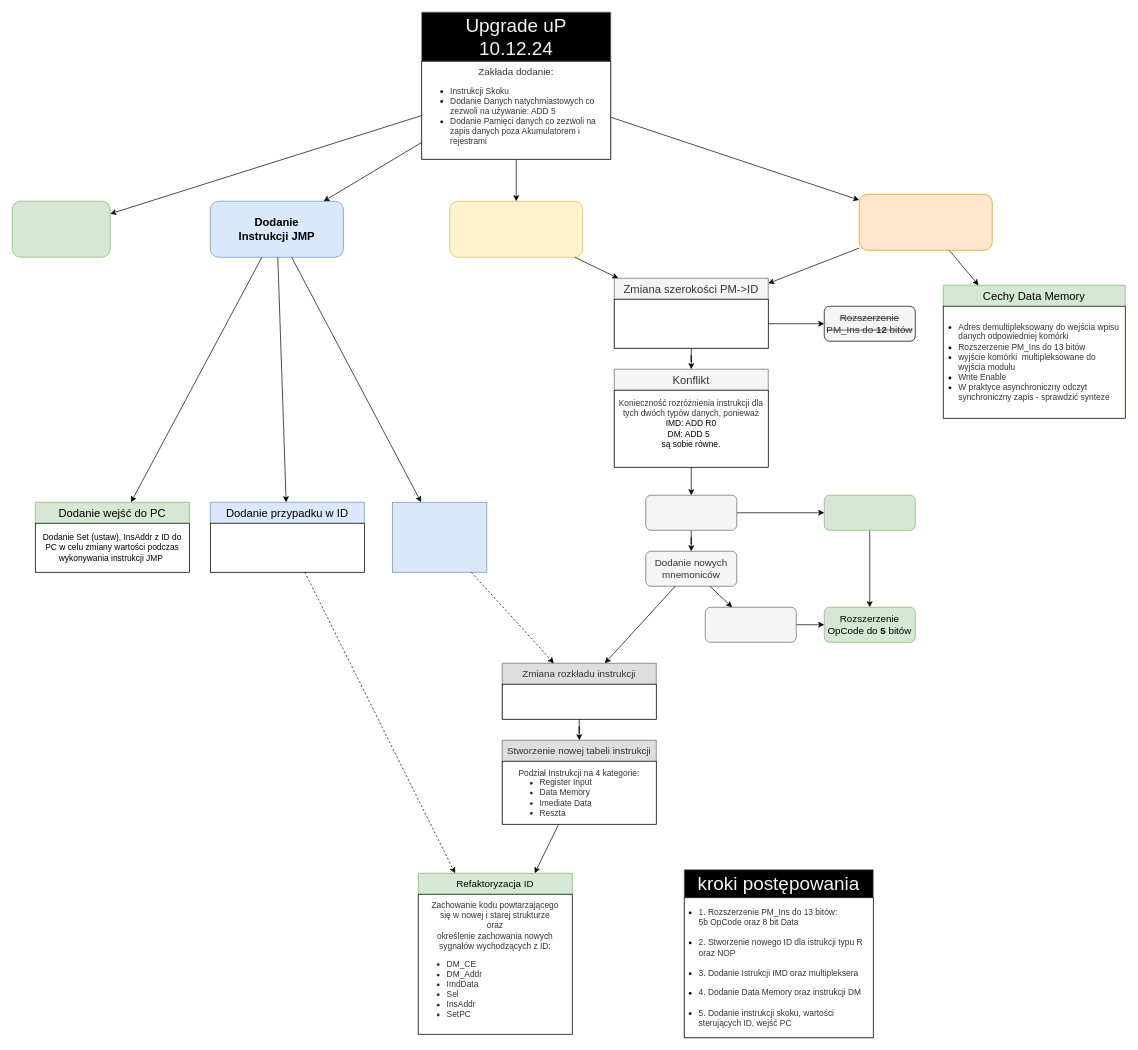
The diagram is 1138 pixels wide and 1050 high, and some of its shapes have lost their labels. The shapes that lost their labels are listed below. From the top down, each one's centre as x and y in pixels, then its label:
pixel 61 229: Multiplekser nad ALU
pixel 516 229: Dodanie Danych Natychmiastowych (ImdData)
pixel 925 222: Dodanie Pamięci Danych (Data Memory)
pixel 691 323: OPCODE: 4bit ARG: 2b -> 8b ImdData oraz adres wymagają co najmniej 8 bitów
pixel 691 512: Dodanie bitu do kodu operacji
pixel 869 512: Rozszerzenie PM_Ins do 13 bitów
pixel 287 547: Wymyślić na jakie wartości wysterować sygnały wychodzące z ID
pixel 439 537: Dodanie nowego mnemonica
pixel 750 624: Rozszerzenie ilości intruckji
pixel 579 701: Stworzenie nowej tabeli instrukcji Aktualizacja Mnemoniców
